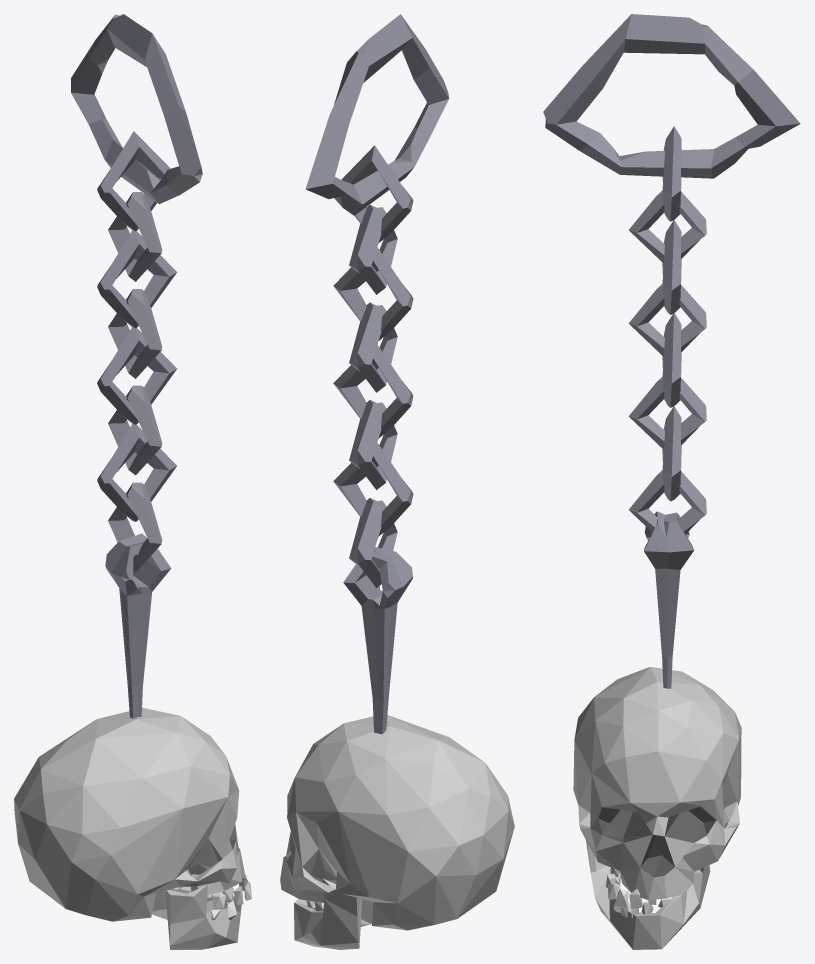
File: HWN20_SkullChain_02.gltf
3 views of the same model, side by side, from view 1: azimuth 30°, elevation 25°; view 2: azimuth 150°, elevation 25°; view 3: azimuth 270°, elevation 25° (orthographic). The views are drawn at different scales.
Parts seen in each view (by area): view 1: HWN20_SkullChain_02_glb; view 2: HWN20_SkullChain_02_glb; view 3: HWN20_SkullChain_02_glb.
Boxes of the visible parts, left/top/right/bottom form: HWN20_SkullChain_02_glb: left=14, top=14, right=251, bottom=949; HWN20_SkullChain_02_glb: left=280, top=14, right=514, bottom=949; HWN20_SkullChain_02_glb: left=543, top=14, right=800, bottom=949.
Size of what is drawn, in the model's own units: 0.3741 by 1.58 by 0.411.
1 material, 1 textured.
